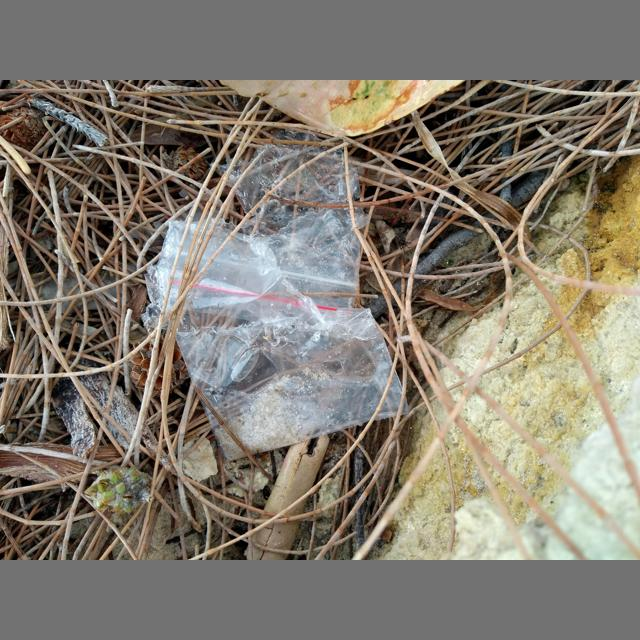litter: (141, 129, 410, 463)
